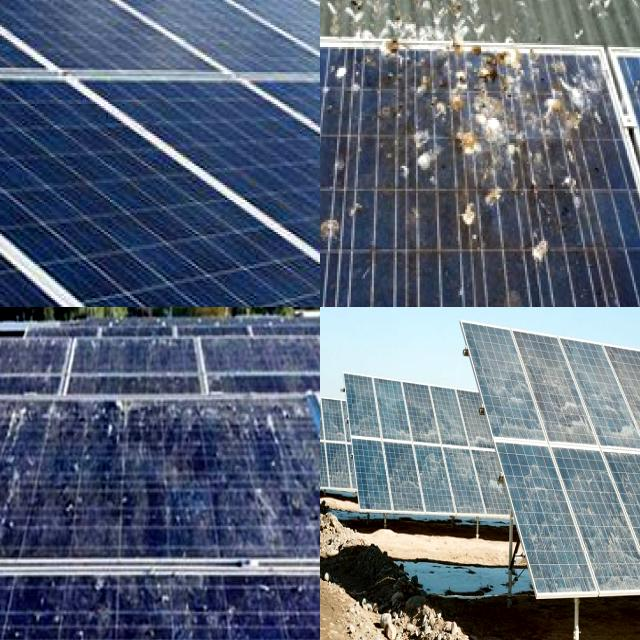bird: (406, 44, 554, 168), (320, 189, 385, 253), (445, 180, 510, 243), (320, 54, 371, 102), (532, 226, 552, 278), (320, 233, 341, 278), (320, 44, 337, 85), (320, 89, 333, 132), (0, 630, 39, 640), (0, 621, 19, 640)
crack: (0, 65, 320, 307), (0, 67, 320, 307), (0, 0, 320, 109), (0, 0, 217, 119), (0, 0, 143, 153)
dust: (356, 392, 492, 492), (534, 452, 624, 600), (488, 342, 576, 440), (586, 350, 640, 450), (320, 403, 357, 486), (320, 408, 332, 464)
